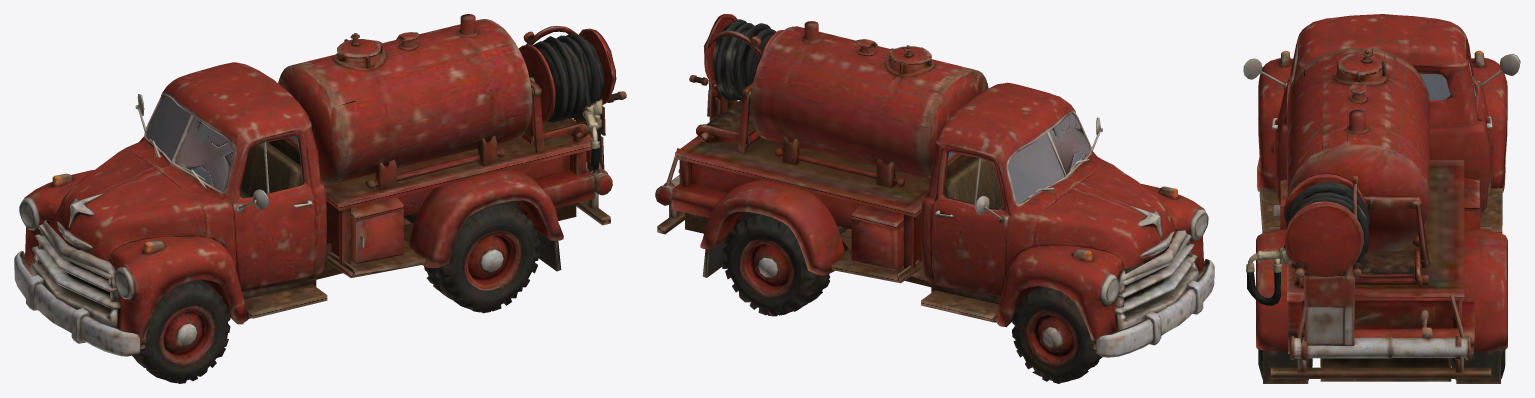
The model's file is fuel_truck.glb.
3 views of the same model, side by side, from view 1: azimuth 30°, elevation 25°; view 2: azimuth 150°, elevation 25°; view 3: azimuth 270°, elevation 25° (orthographic). The views are drawn at different scales.
Visible parts, largest first — view 1: geometry_0; view 2: geometry_0; view 3: geometry_0.
Part boxes in pixels (x1,y1,x2,y2): geometry_0: (14, 14, 626, 383); geometry_0: (655, 14, 1214, 383); geometry_0: (1243, 14, 1520, 383).
Bounding box in the file's own units: 0.9531 × 0.4482 × 0.4023.
1 material, 1 textured.
